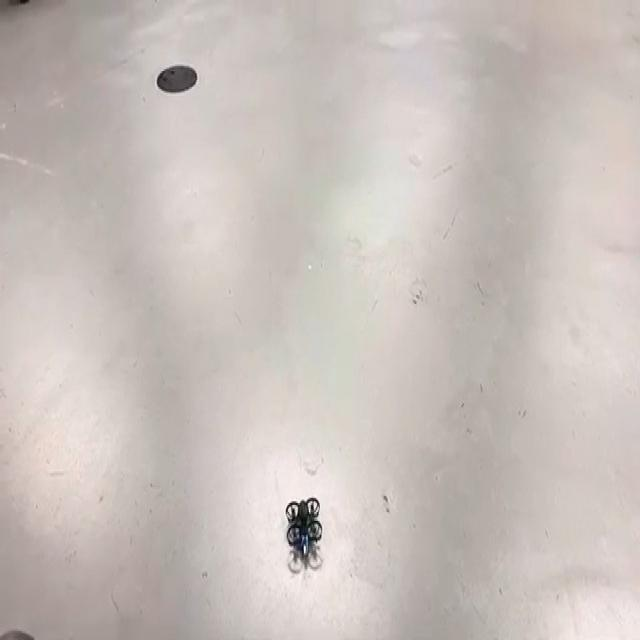drone: (277, 485, 337, 581)
